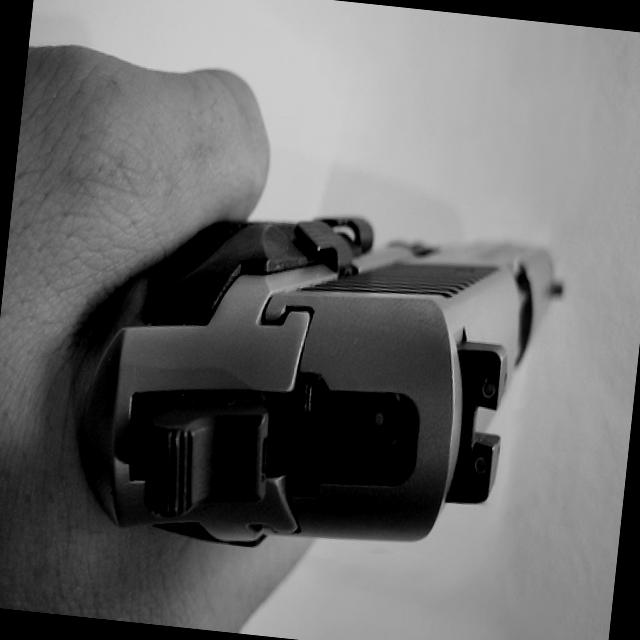handgun: (101, 197, 569, 577)
